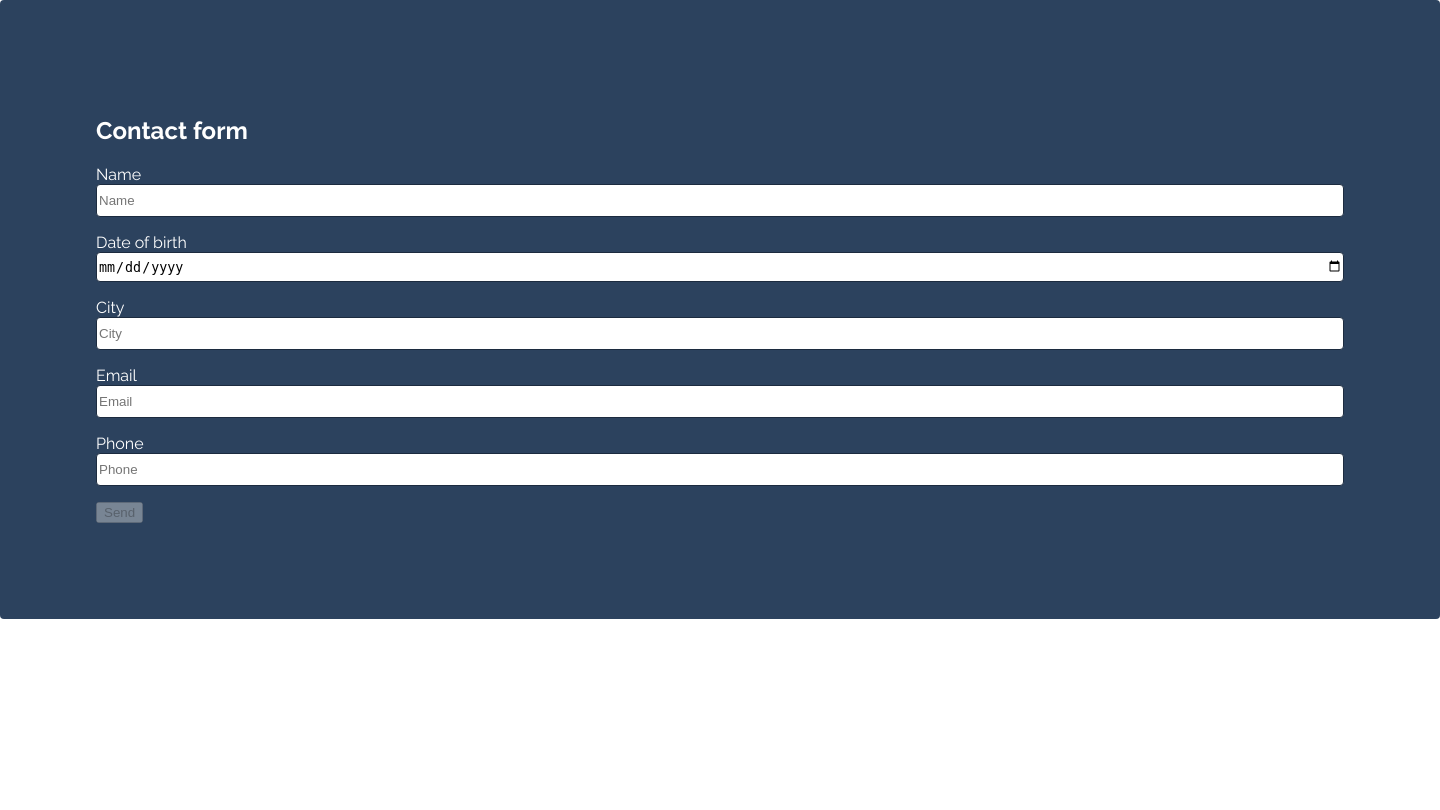
Test: Contact Form Component › Should show button send enabled
Type "2024-11-25T14:30" into the date field with test id "datetime-input" at (720, 267), box [96,252,1344,282]
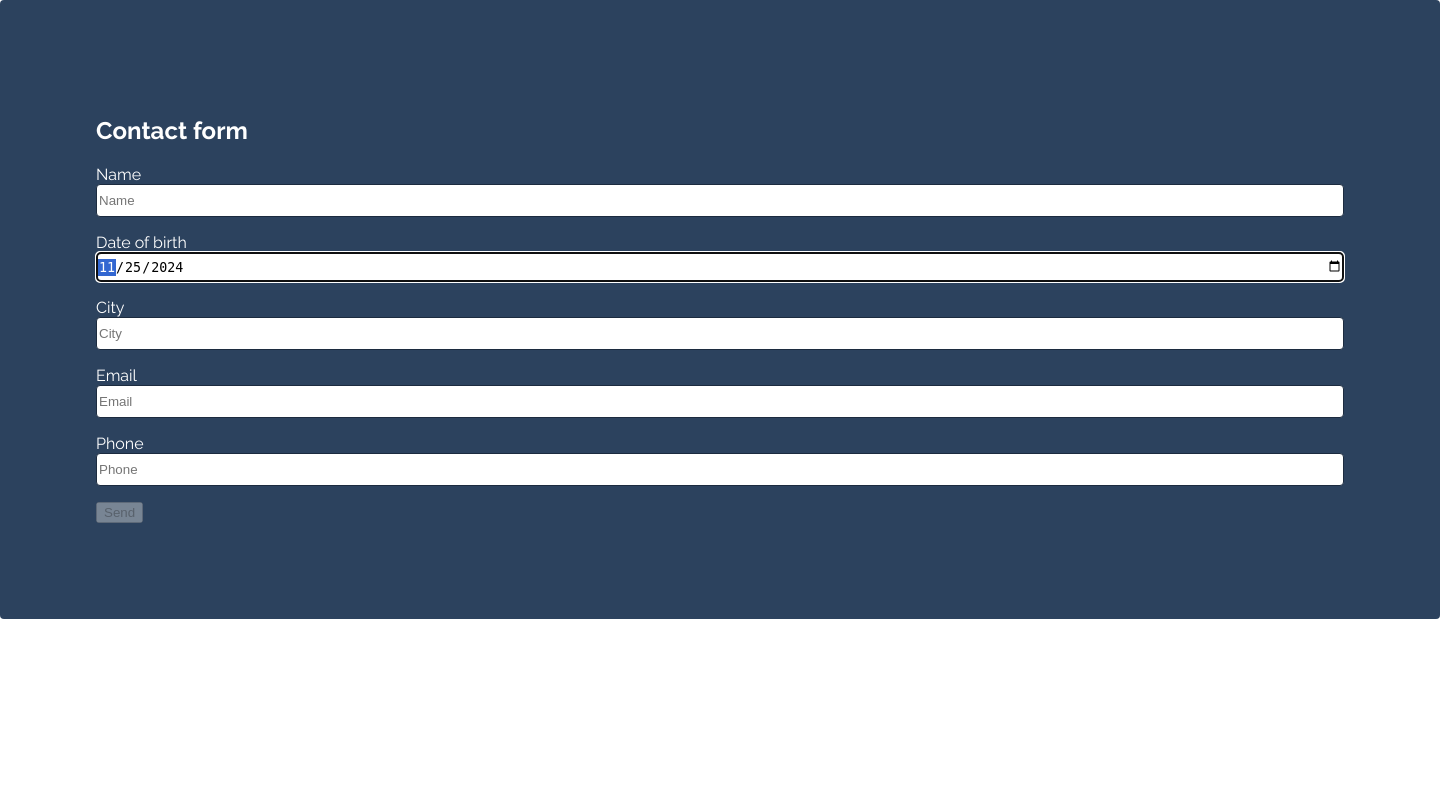
Type "Kevin" into the field with placeholder "Name" at (720, 200), box [96,184,1344,217]
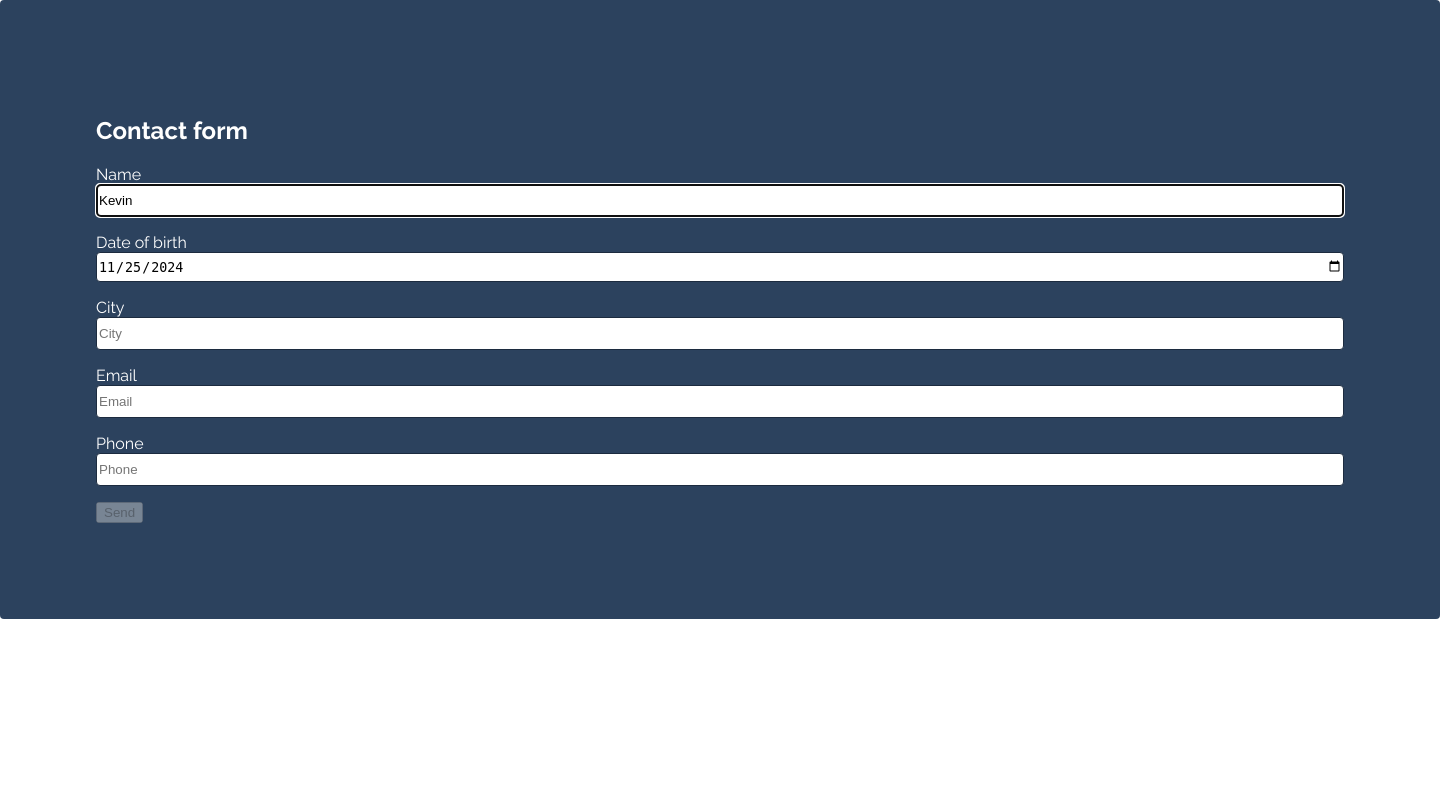
Type "London" into the field with placeholder "City" at (720, 334), box [96,317,1344,350]
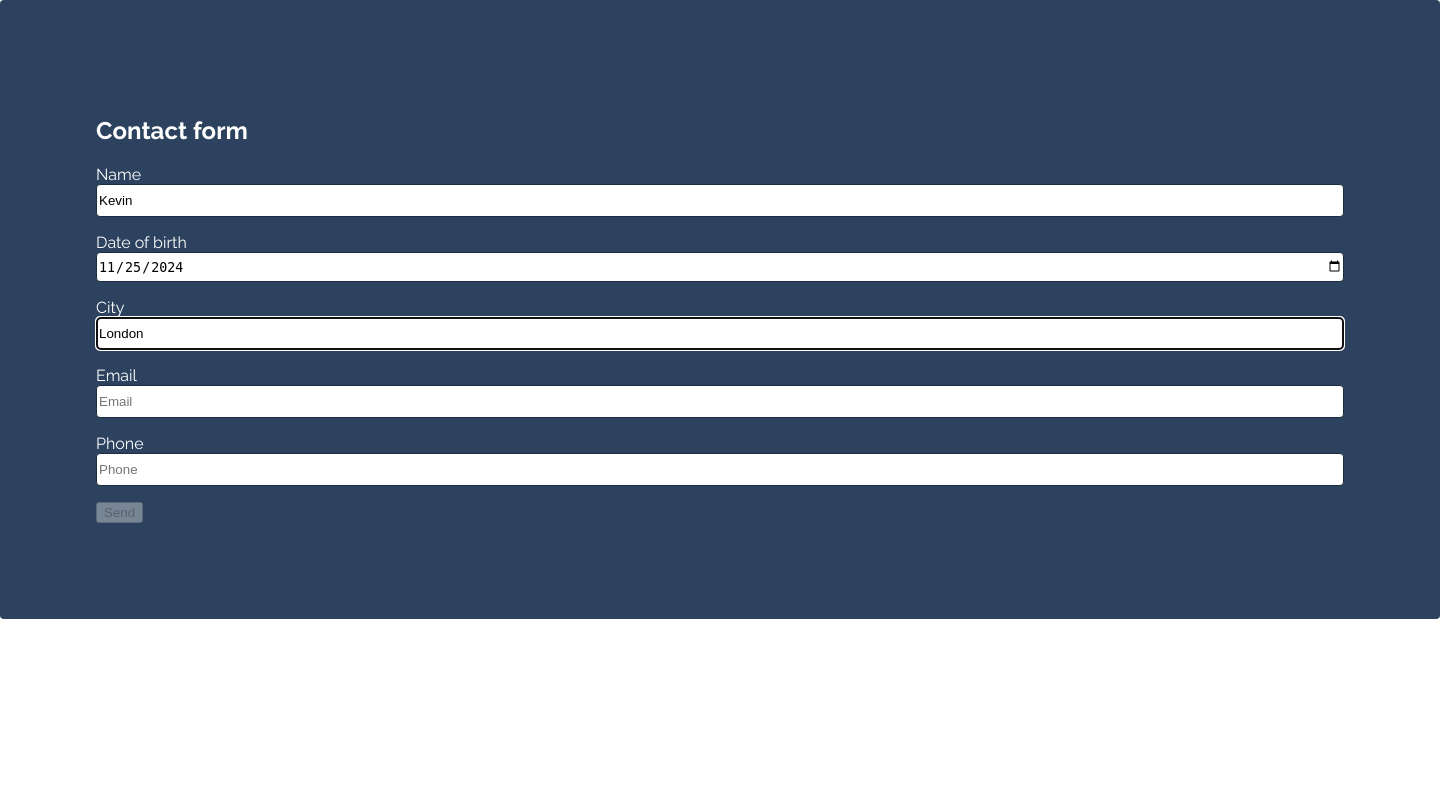
Type "hiapp@gmail.com" into the field with placeholder "Email" at (720, 402), box [96,385,1344,418]
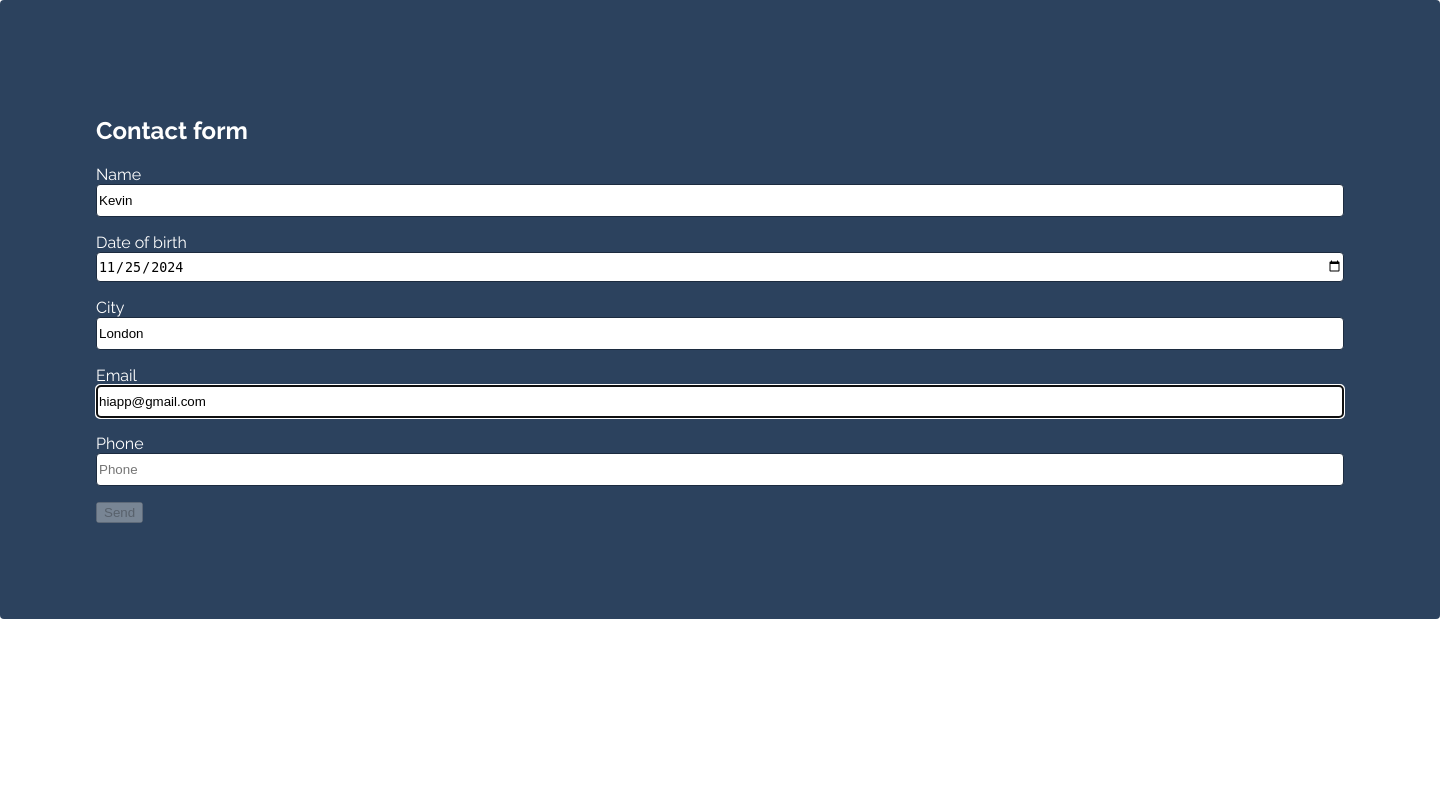
Type "66530266" into the number field with placeholder "Phone" at (720, 469), box [96,453,1344,486]
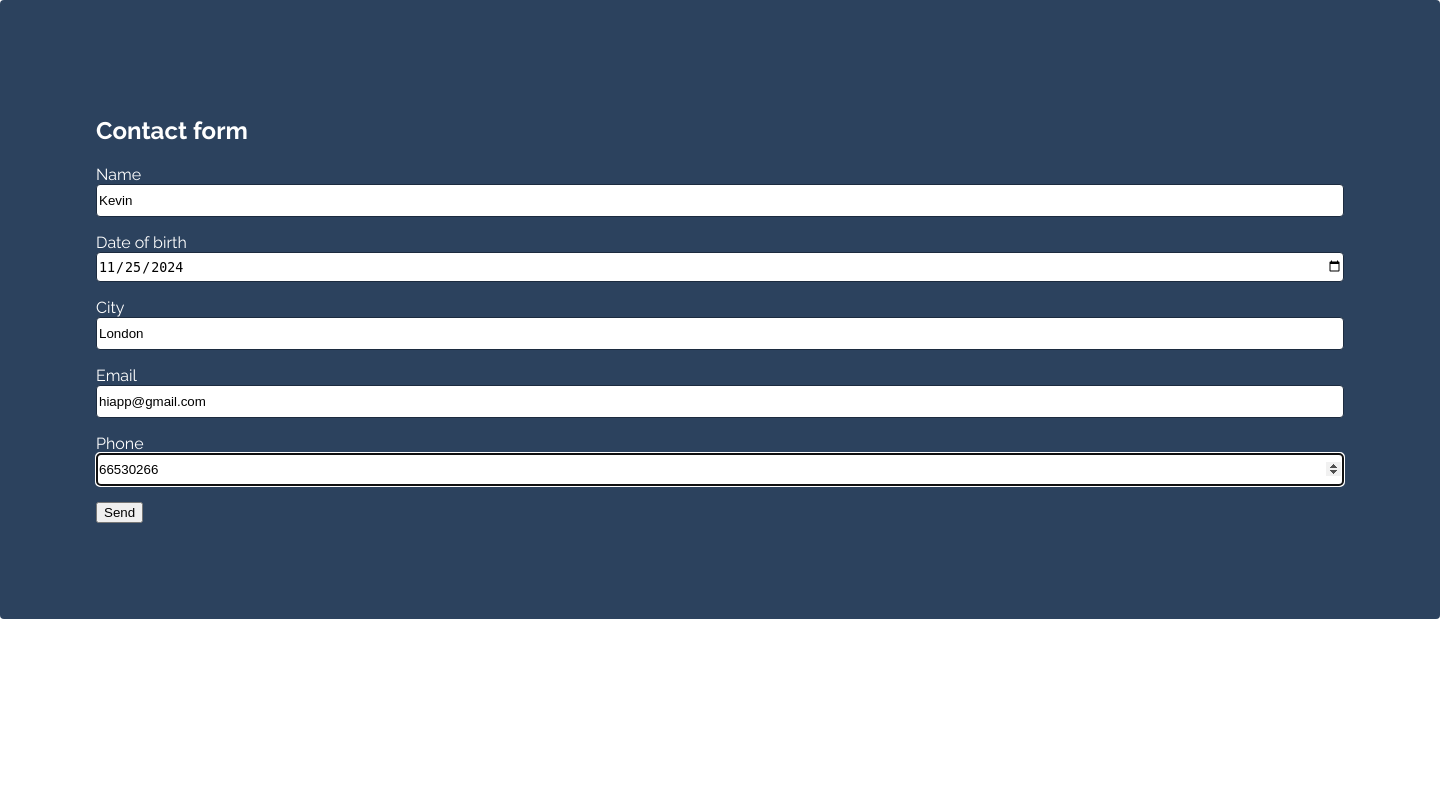
expect the button "Send" is enabled: met, box [96,502,143,523]
